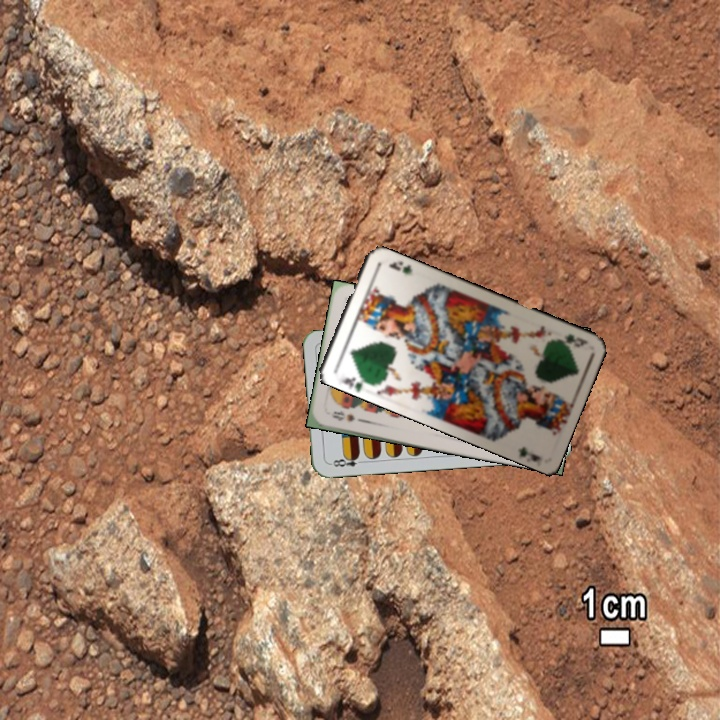E8: (326, 451, 367, 469)
GK: (552, 330, 591, 350), (337, 371, 372, 393)
S8: (328, 407, 357, 424)
